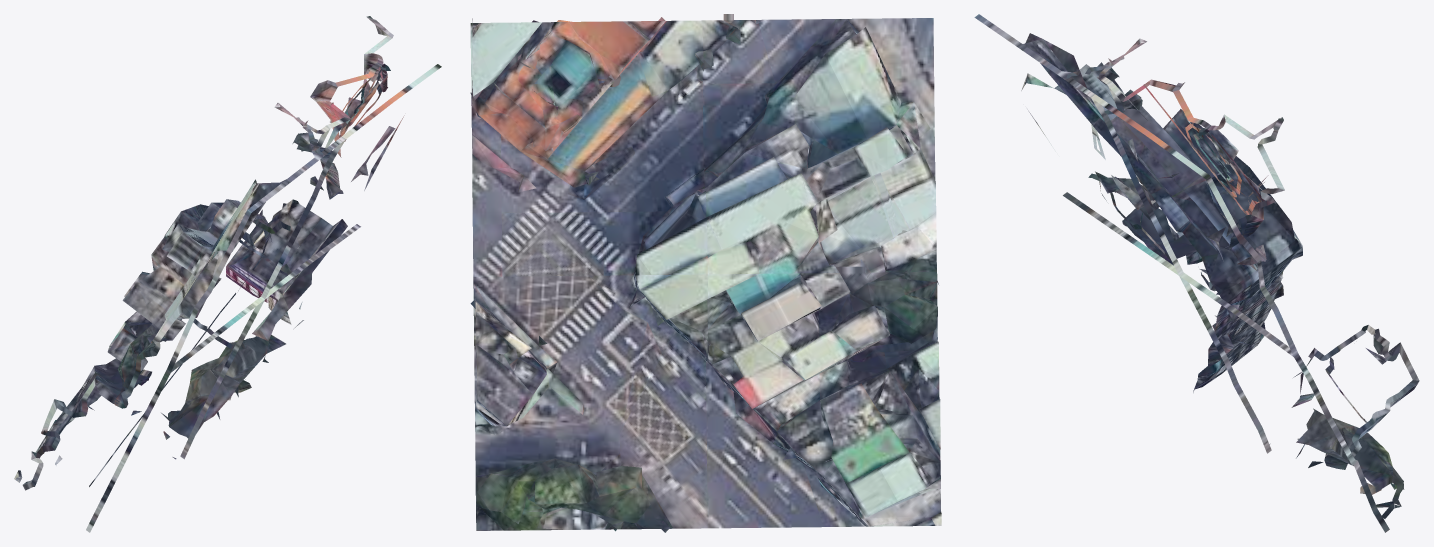
The picture shows the model from 3 angles, left to right: view 1: azimuth 30°, elevation 25°; view 2: azimuth 150°, elevation 25°; view 3: azimuth 270°, elevation 25°; orthographic projection. The views are drawn at different scales.
Bounding box in the file's own units: 84.08 × 76.06 × 69.25.
1 material, 1 textured.
